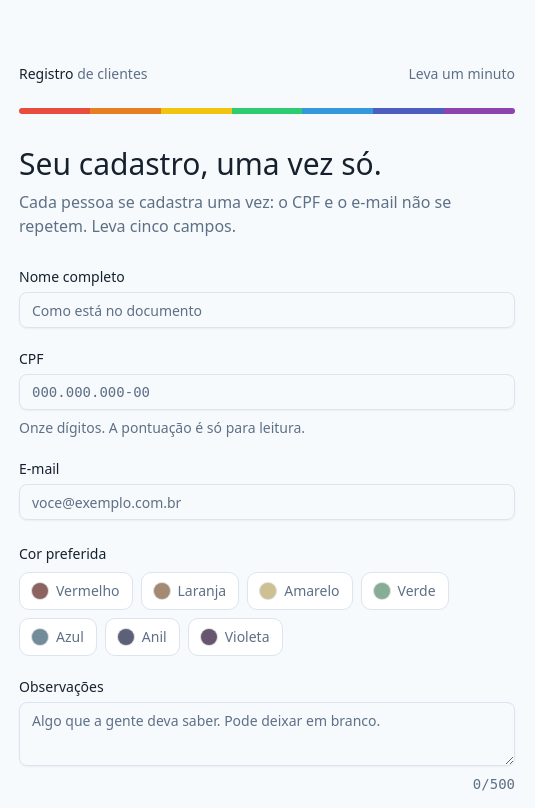
Test: ClientForm › mostra o 409 de e-mail duplicado no campo do e-mail
Type "Maria Silva" into the field labelled "Nome completo" at (267, 310), box [19,292,515,328]
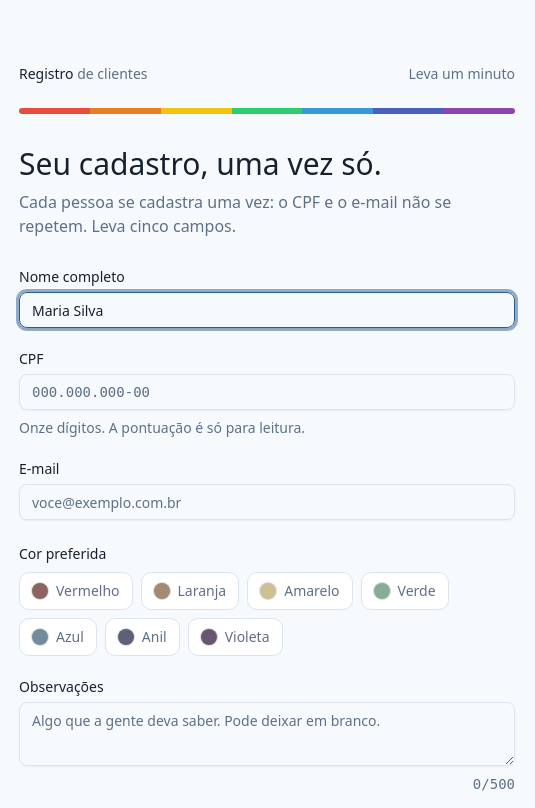
Type "123.456.789-09" into the field labelled "CPF" at (267, 392), box [19,374,515,410]
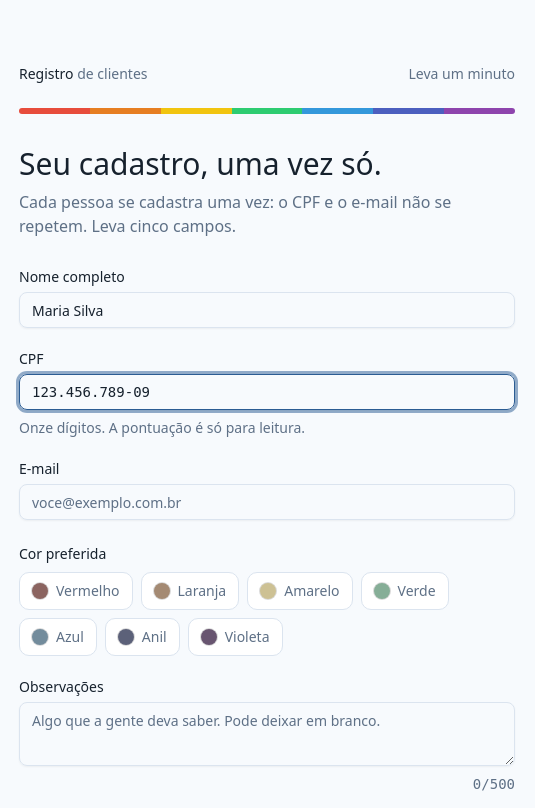
Type "maria@exemplo.com" into the field labelled "E-mail" at (267, 502), box [19,484,515,520]
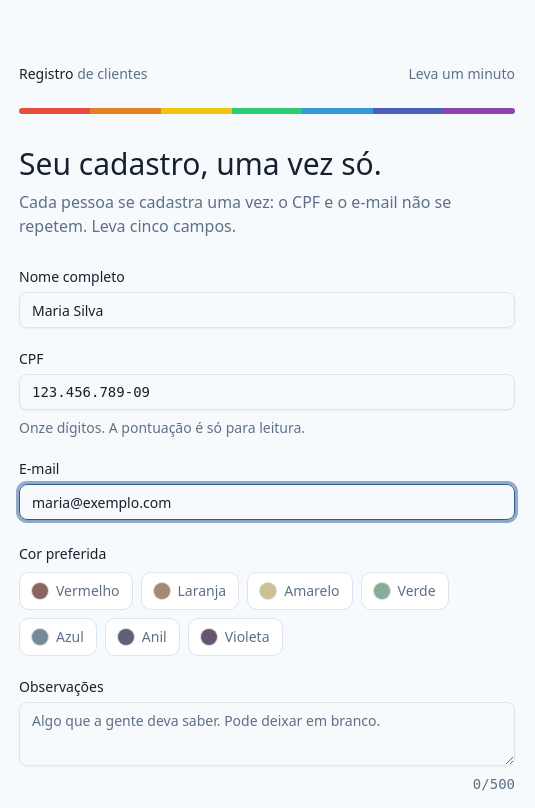
Click the radio button labelled "Verde" at (405, 591), box [361,572,449,610]
(page scrolled)
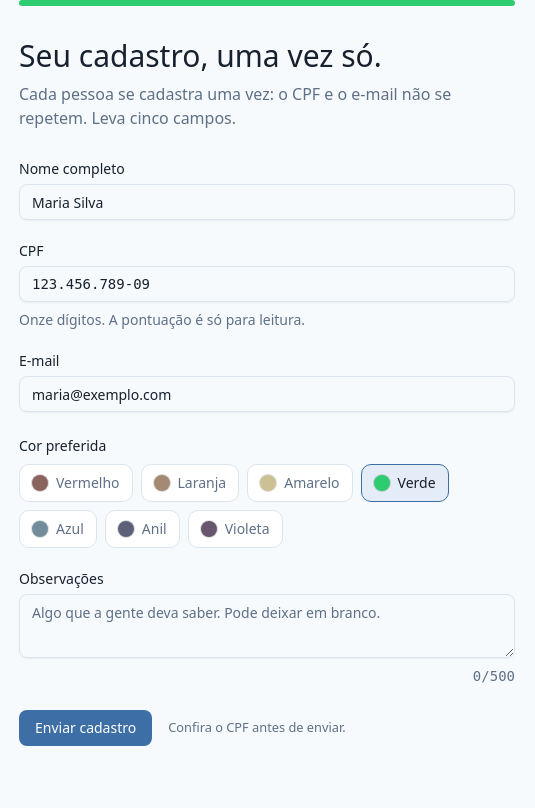
Click the button "Enviar cadastro" at (86, 728), box [19,710,152,746]
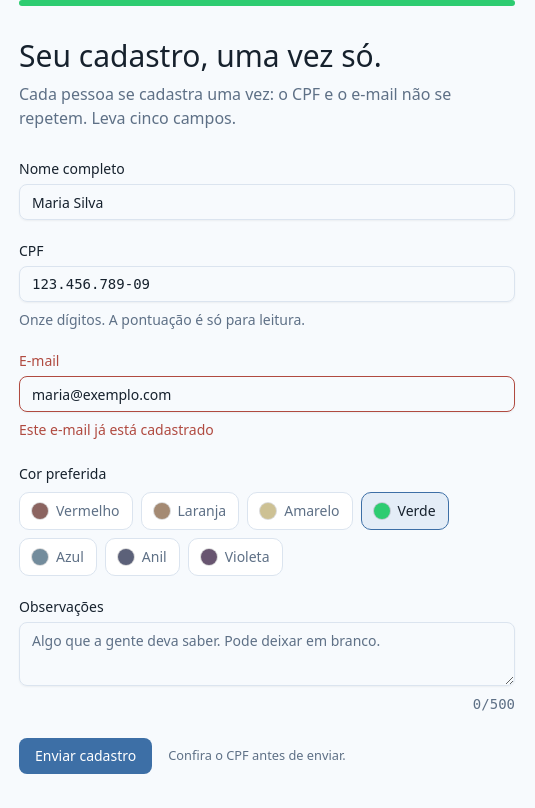
Expected: the text "Este e-mail já está cadastrado" is shown, [19,420,214,439]
